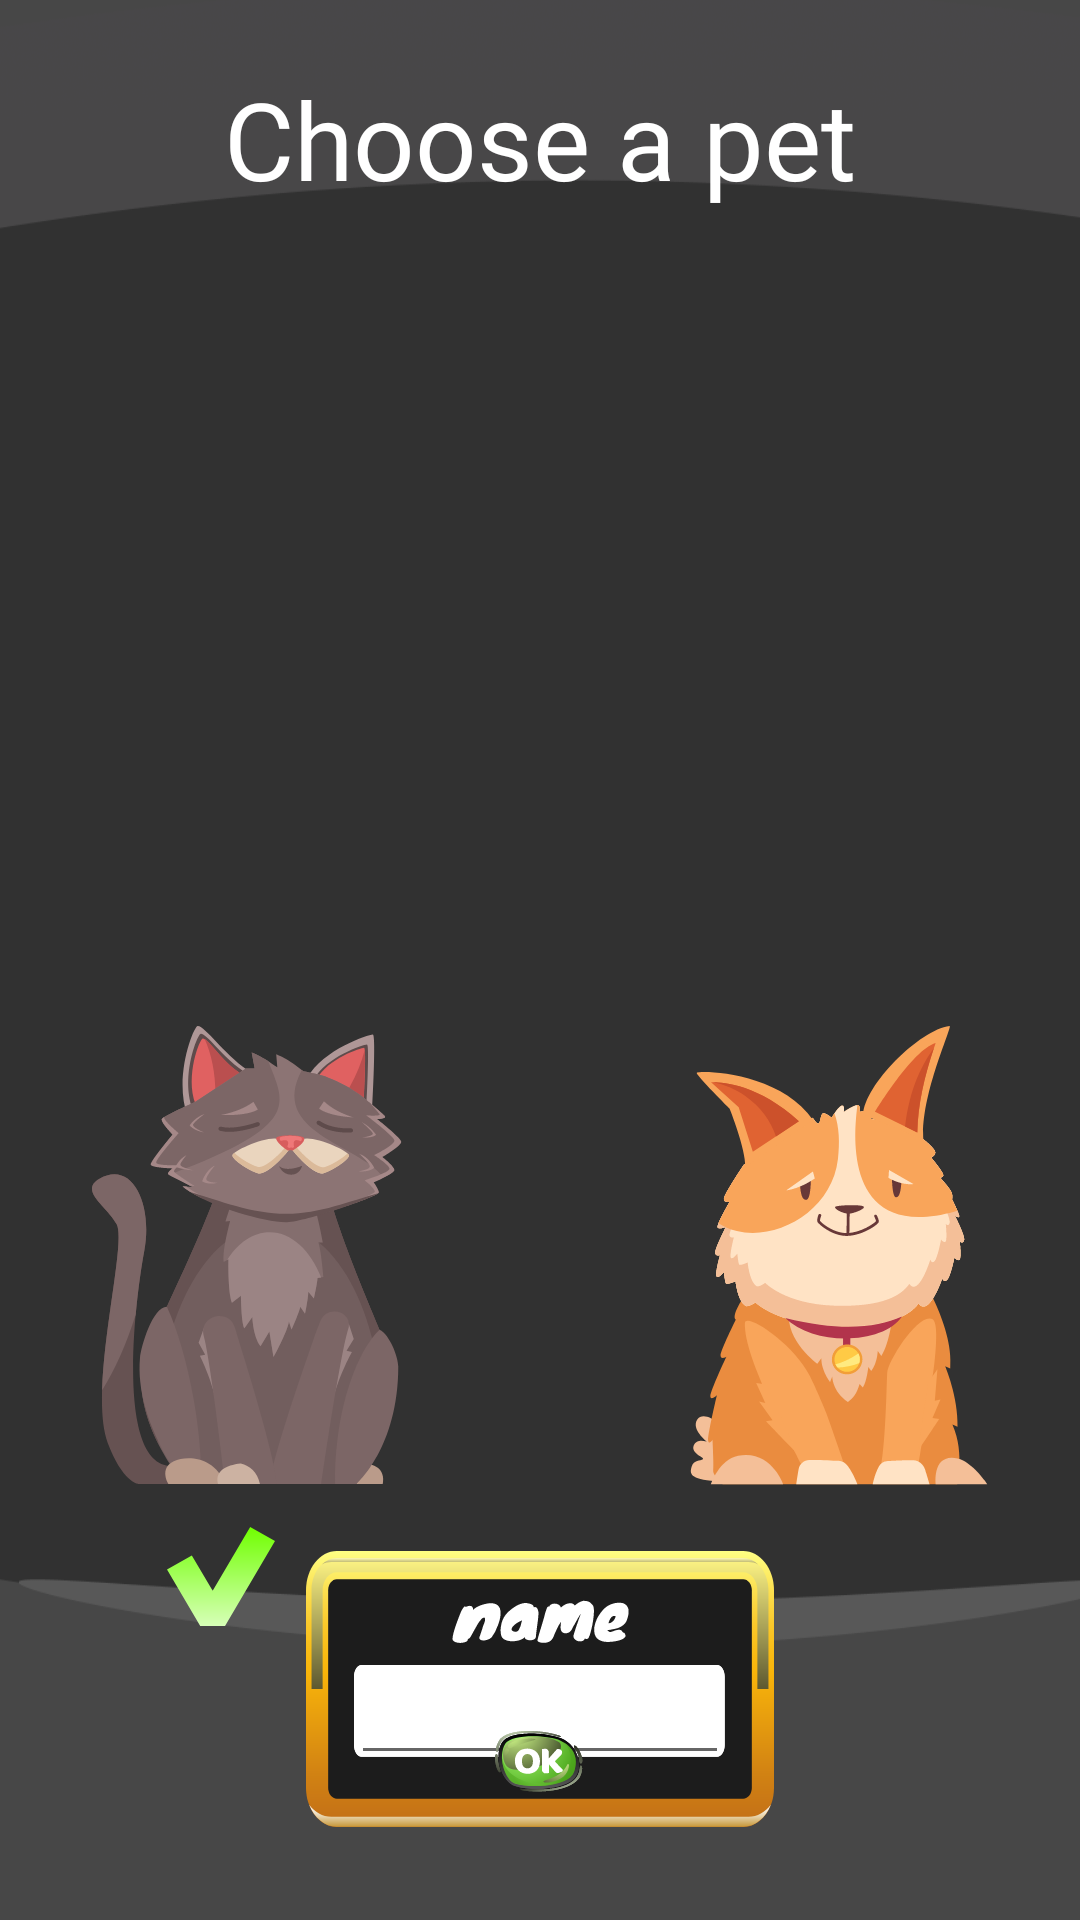

Named icons in this screenshot (1080px×1920px) and their bounding boxes, (x1, y1, x2, y2):
check mark: (167, 1527, 275, 1626)
